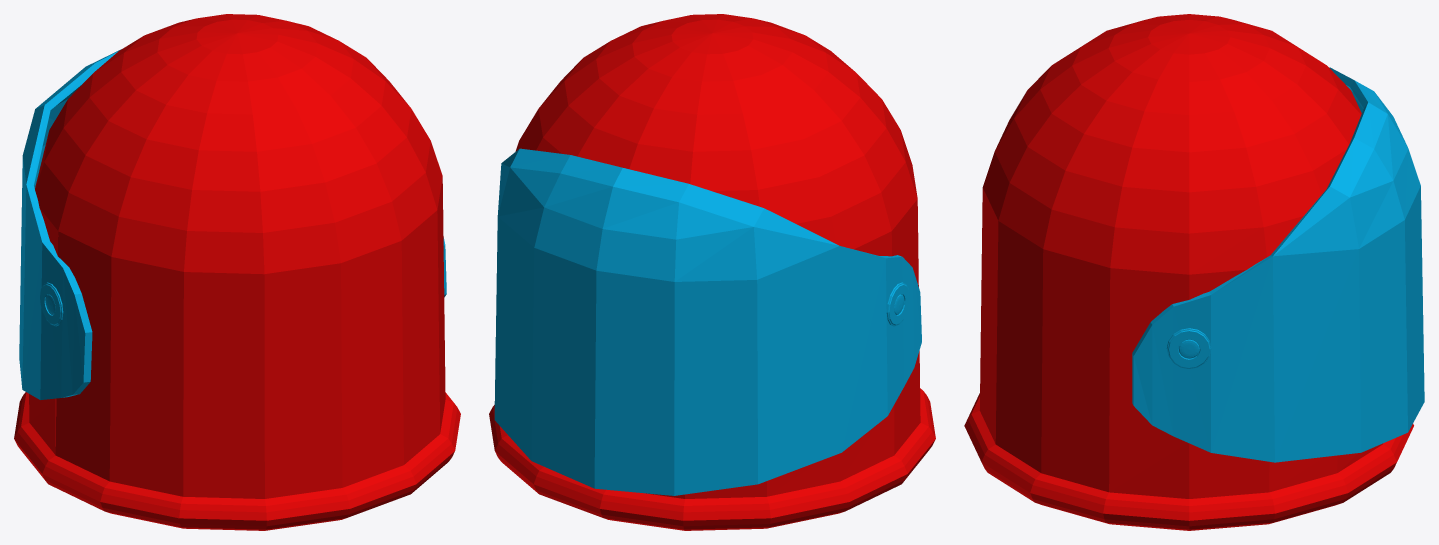
The model's file is astronut_helmet 1.fbx.
3 renders of one model, left to right at view 1: azimuth 30°, elevation 25°; view 2: azimuth 150°, elevation 25°; view 3: azimuth 270°, elevation 25°, orthographic.
Parts seen in each view (by area): view 1: astronut_helmet; view 2: astronut_helmet; view 3: astronut_helmet.
Part boxes in pixels (x1,y1,x2,y2): astronut_helmet: (14, 14, 460, 530); astronut_helmet: (489, 14, 935, 530); astronut_helmet: (964, 14, 1424, 530).
Size of the model in its own units: 55.19 by 55.46 by 56.47.
